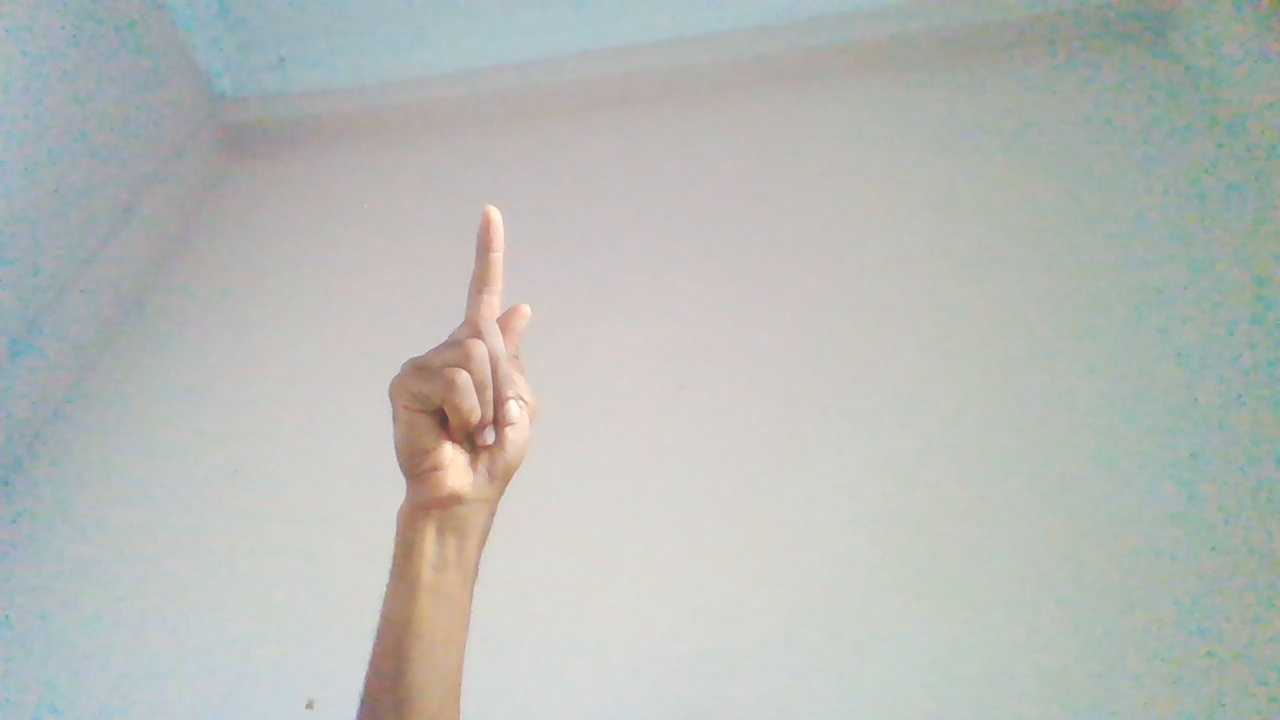ne: (384, 205, 543, 612)
